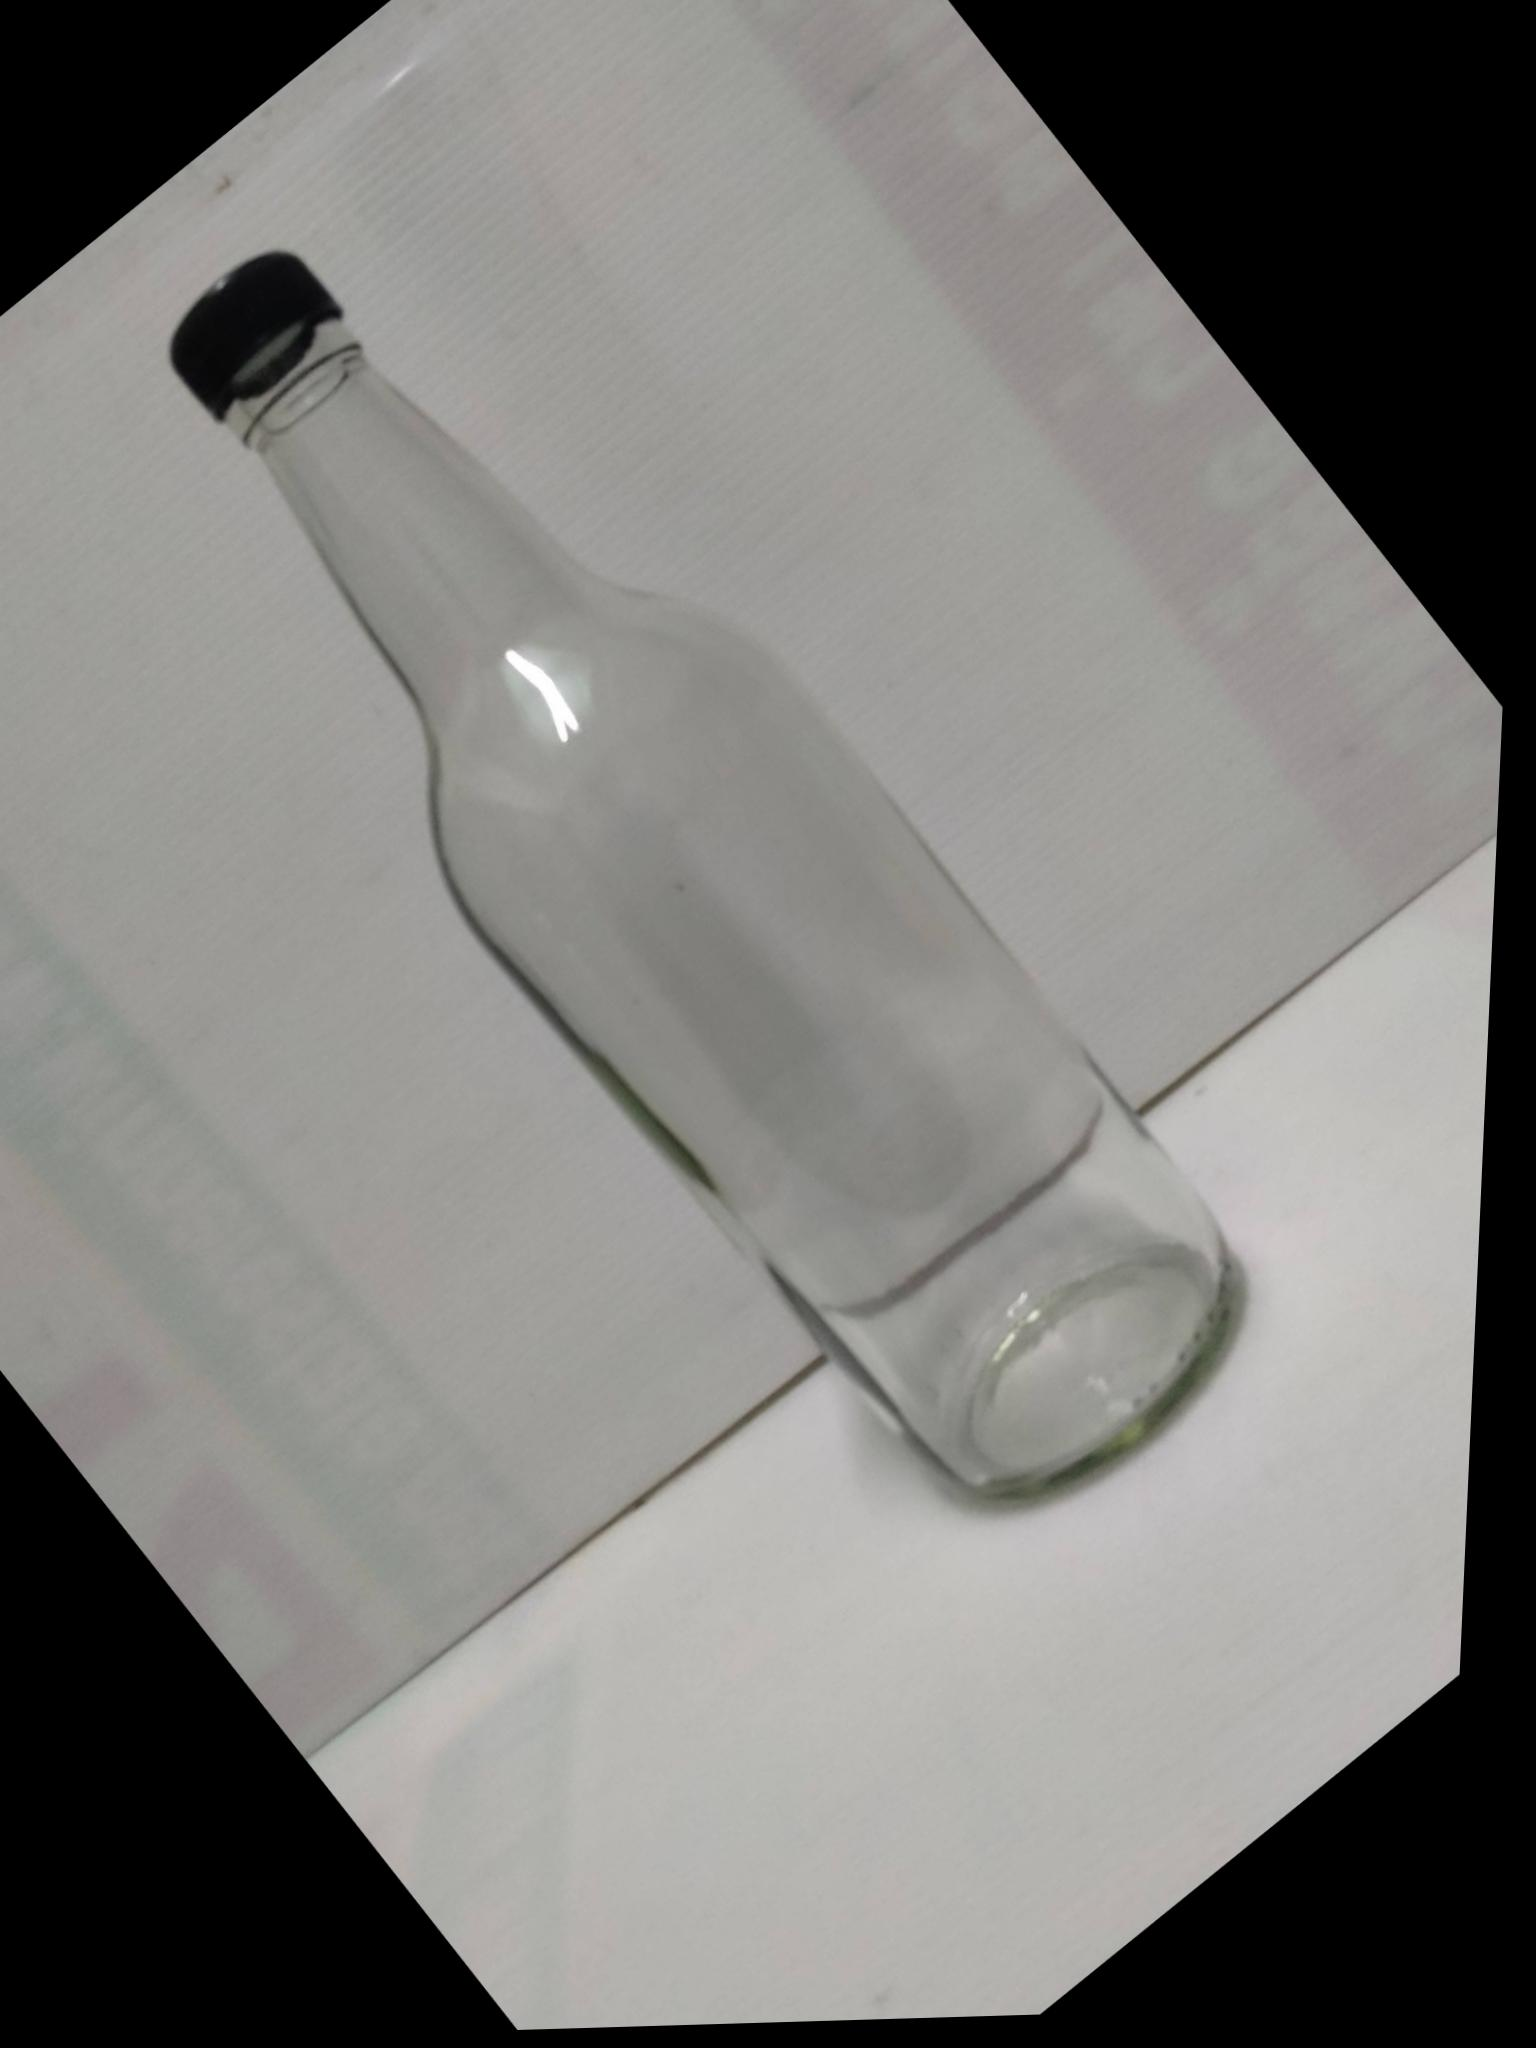glass: (0, 0, 1349, 1740)
